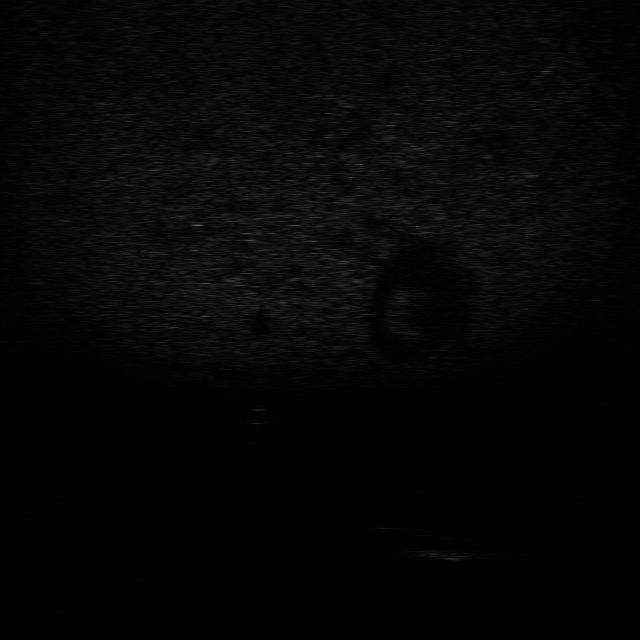ball: (238, 404, 278, 426)
metal bucket: (400, 544, 490, 565)
tyre: (362, 522, 458, 539)
